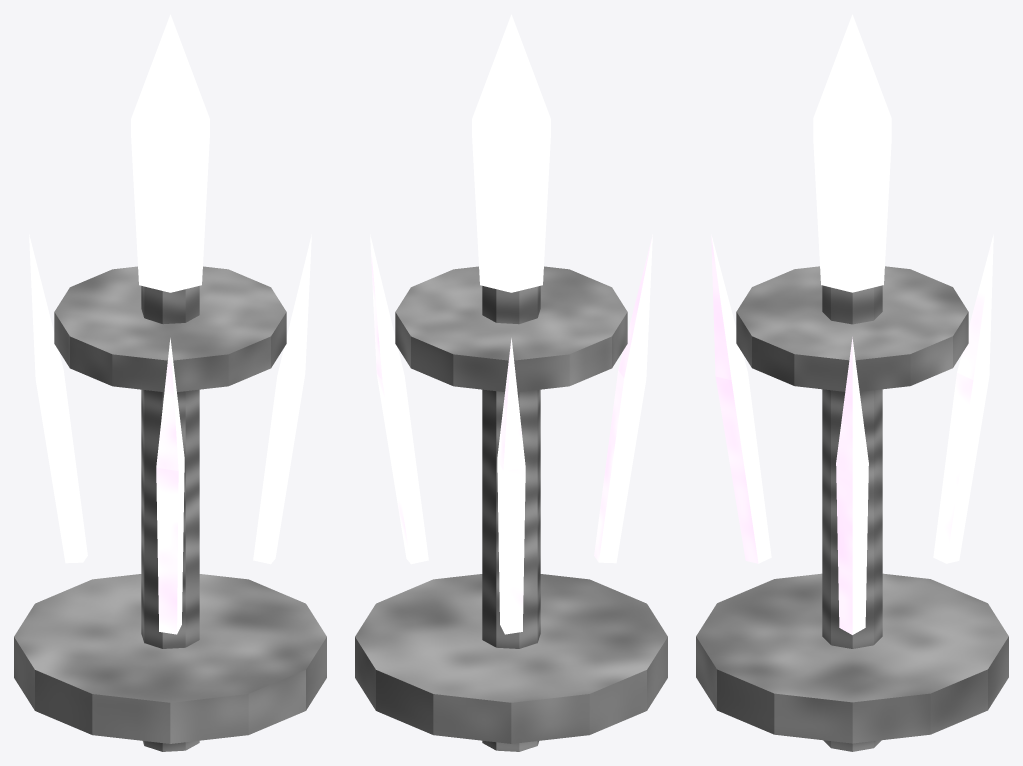
The model's file is norn-spindle.glb.
The picture shows the model from 3 angles, left to right: view 1: azimuth 30°, elevation 25°; view 2: azimuth 150°, elevation 25°; view 3: azimuth 270°, elevation 25°; orthographic projection.
Parts seen in each view (by area): view 1: lower-whorl, upper-whorl, thread-crystal, spindle-shaft, norn-thread-2, norn-thread-0, norn-thread-1; view 2: lower-whorl, upper-whorl, thread-crystal, spindle-shaft, norn-thread-1, norn-thread-0, norn-thread-2; view 3: lower-whorl, upper-whorl, thread-crystal, spindle-shaft, norn-thread-1, norn-thread-2, norn-thread-0.
Boxes of the visible parts, bbox=[...] form: lower-whorl: bbox=[14, 574, 326, 743]; upper-whorl: bbox=[54, 266, 286, 391]; thread-crystal: bbox=[131, 14, 209, 292]; spindle-shaft: bbox=[141, 286, 199, 751]; norn-thread-2: bbox=[29, 234, 87, 563]; norn-thread-0: bbox=[253, 234, 311, 564]; norn-thread-1: bbox=[156, 338, 184, 634]; lower-whorl: bbox=[355, 574, 667, 743]; upper-whorl: bbox=[395, 266, 627, 391]; thread-crystal: bbox=[472, 14, 550, 292]; spindle-shaft: bbox=[482, 286, 540, 751]; norn-thread-1: bbox=[594, 234, 652, 563]; norn-thread-0: bbox=[370, 234, 428, 564]; norn-thread-2: bbox=[497, 338, 525, 634]; lower-whorl: bbox=[696, 573, 1008, 743]; upper-whorl: bbox=[736, 266, 968, 391]; thread-crystal: bbox=[813, 14, 891, 292]; spindle-shaft: bbox=[822, 285, 882, 751]; norn-thread-1: bbox=[711, 234, 771, 563]; norn-thread-2: bbox=[933, 234, 993, 563]; norn-thread-0: bbox=[836, 337, 868, 634].
Size of the model in its own units: 0.6335 by 1.59 by 0.62.
4 materials, 4 textured.
